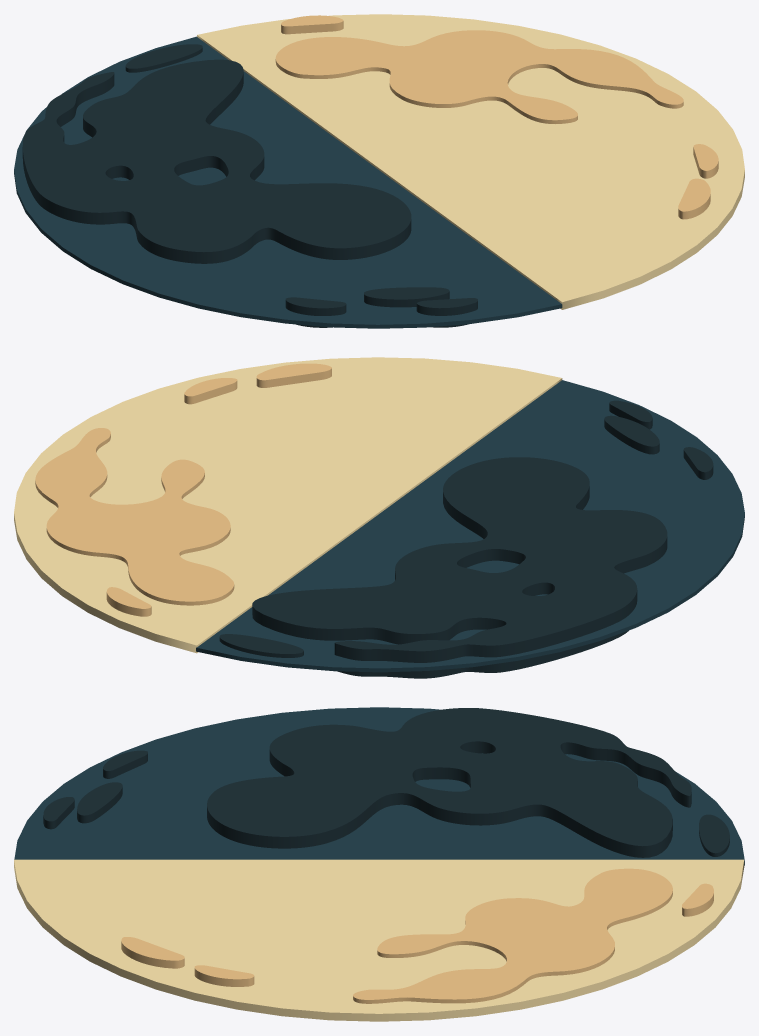
The model's file is emoji_u1f313.glb.
3 renders of one model, top to bottom at view 1: azimuth 30°, elevation 25°; view 2: azimuth 150°, elevation 25°; view 3: azimuth 270°, elevation 25°, orthographic.
Parts seen in each view (by area): view 1: emoji_u1f313; view 2: emoji_u1f313; view 3: emoji_u1f313.
Part boxes in pixels (x1,y1,x2,y2): emoji_u1f313: (14, 14, 744, 328); emoji_u1f313: (14, 357, 744, 678); emoji_u1f313: (14, 707, 744, 1021).
Bounding box in the file's own units: 0.0338 × 0.0014 × 0.0339.
